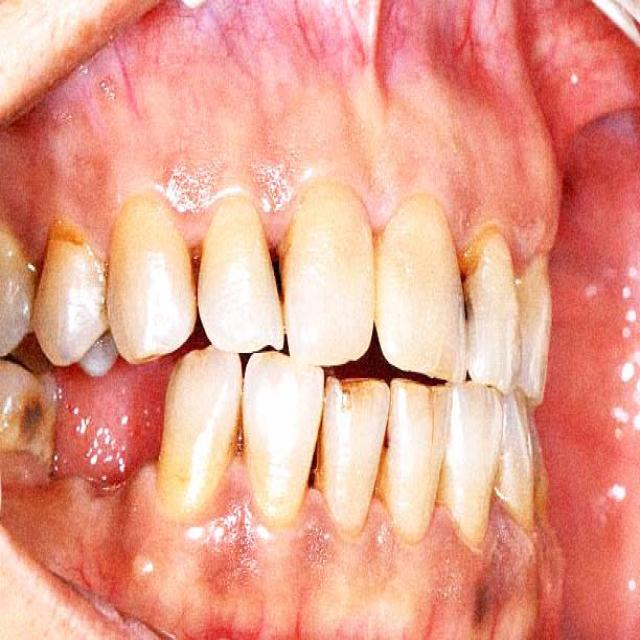caries: (256, 220, 294, 304), (180, 233, 216, 304), (302, 431, 333, 506), (451, 280, 478, 336)
